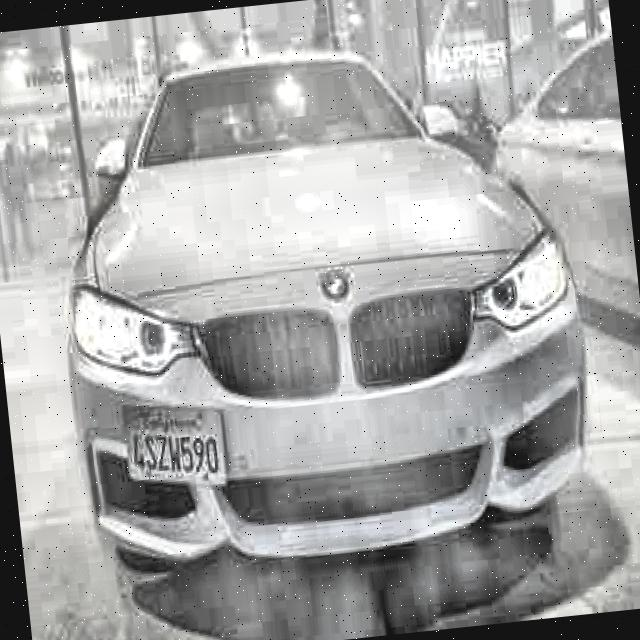license_plate: (123, 397, 232, 502)
